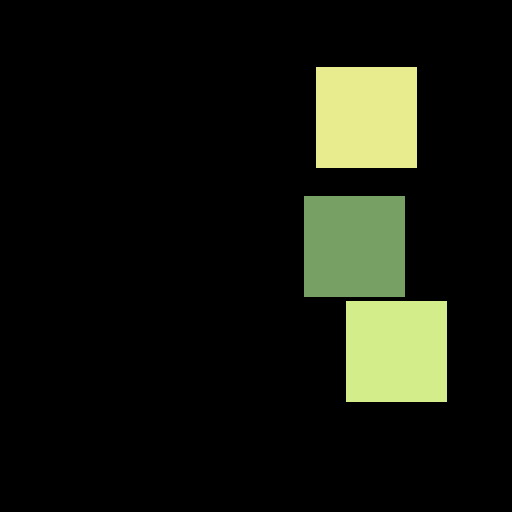square: (346, 301, 446, 401), (304, 196, 404, 296), (316, 67, 416, 167)
